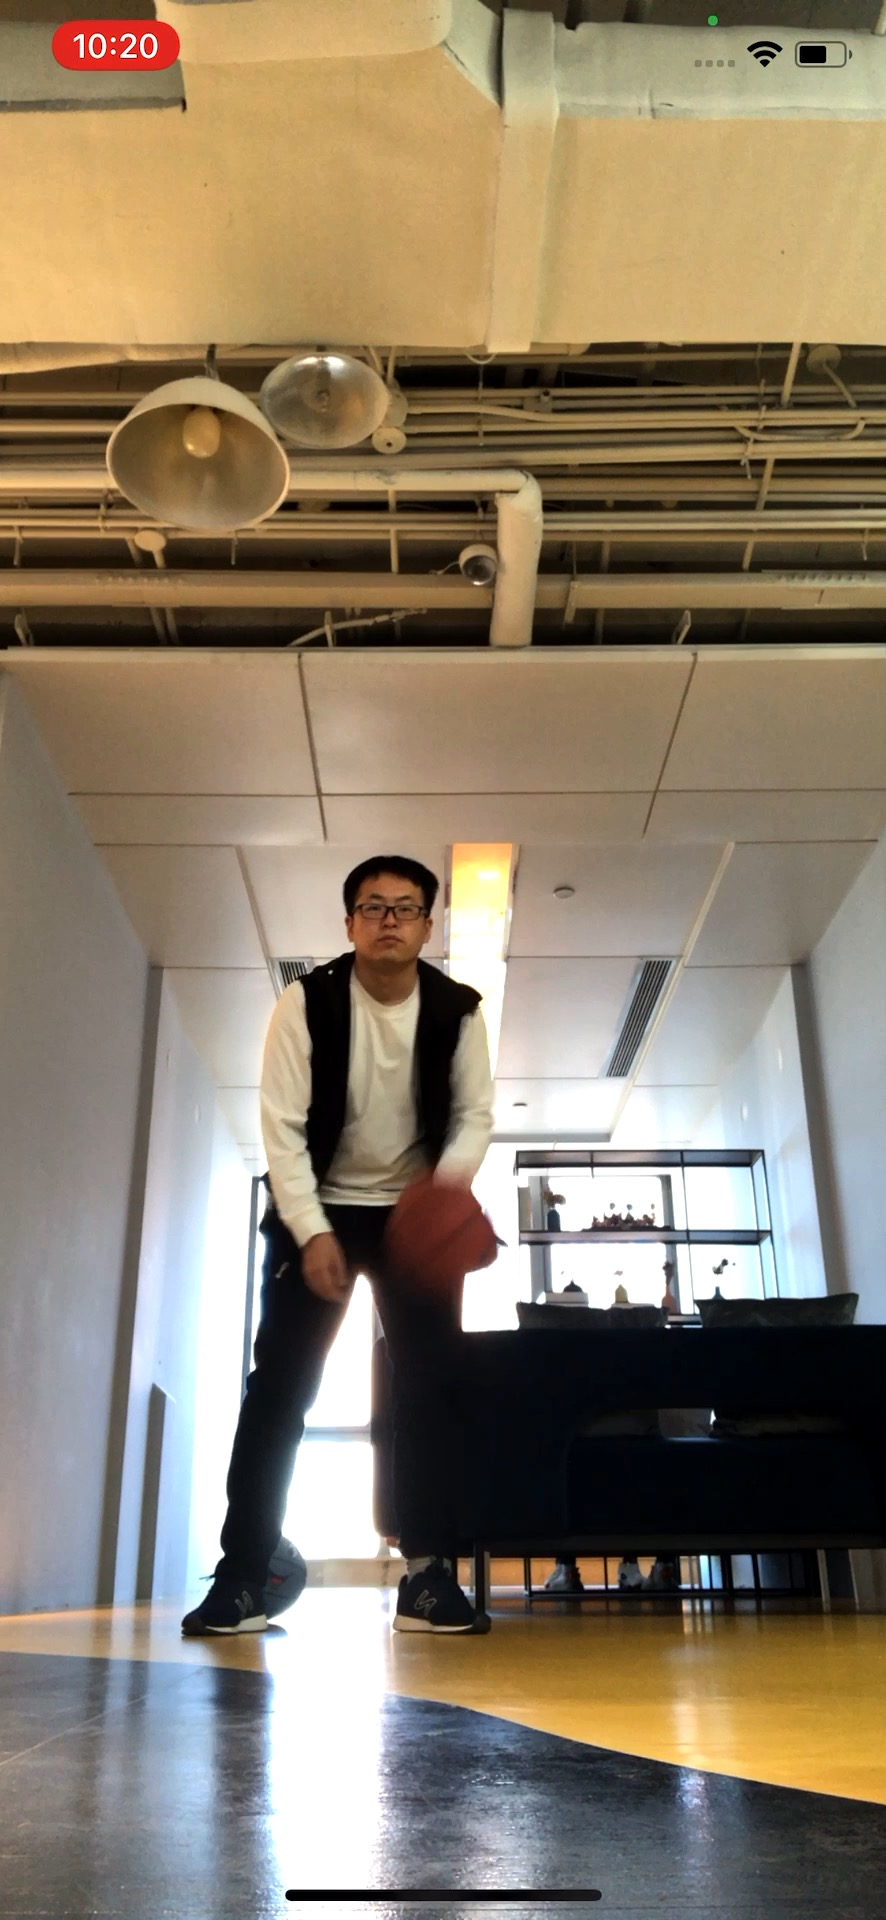ball: (392, 1180, 501, 1280)
